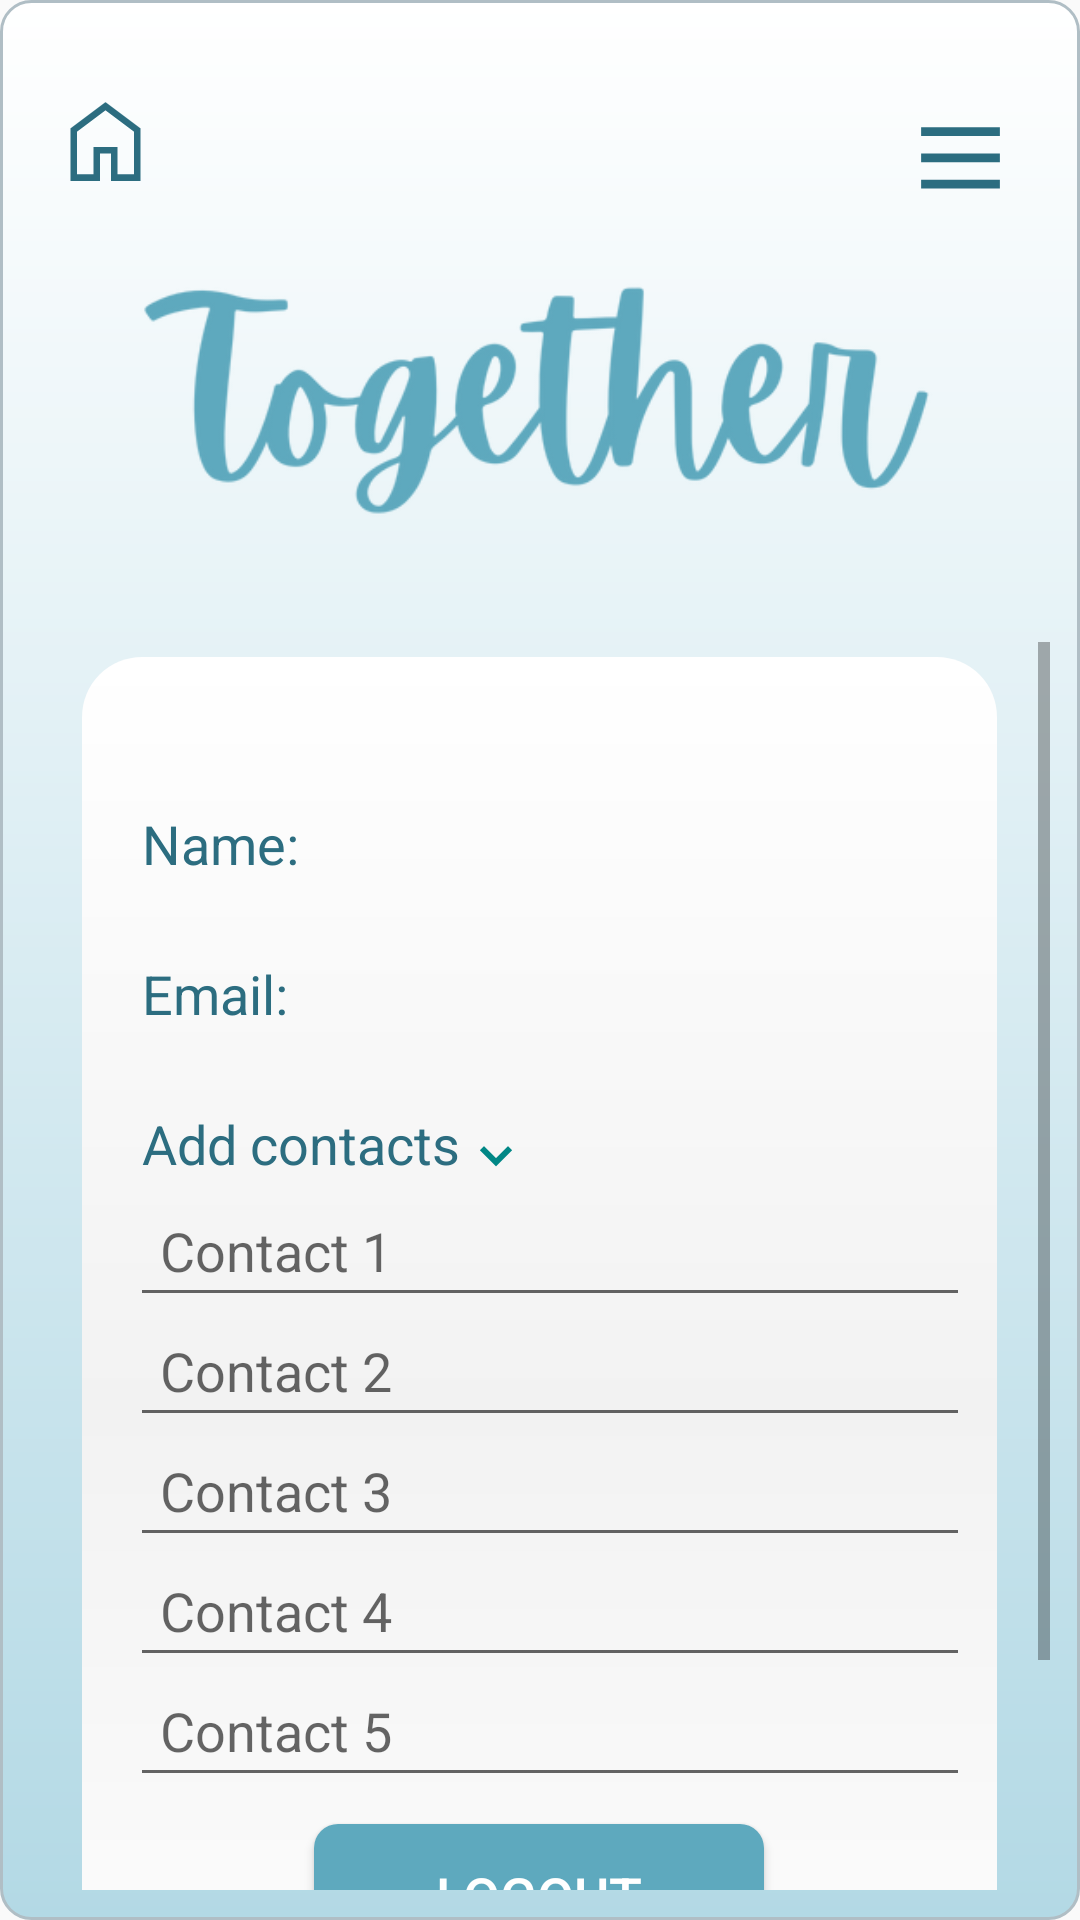

Named icons in this screenshot (1080×1920) and their bounding boxes, (x1, y1, x2, y2):
hamburger: (921, 127, 1000, 189)
homebutton: (70, 102, 141, 181)
